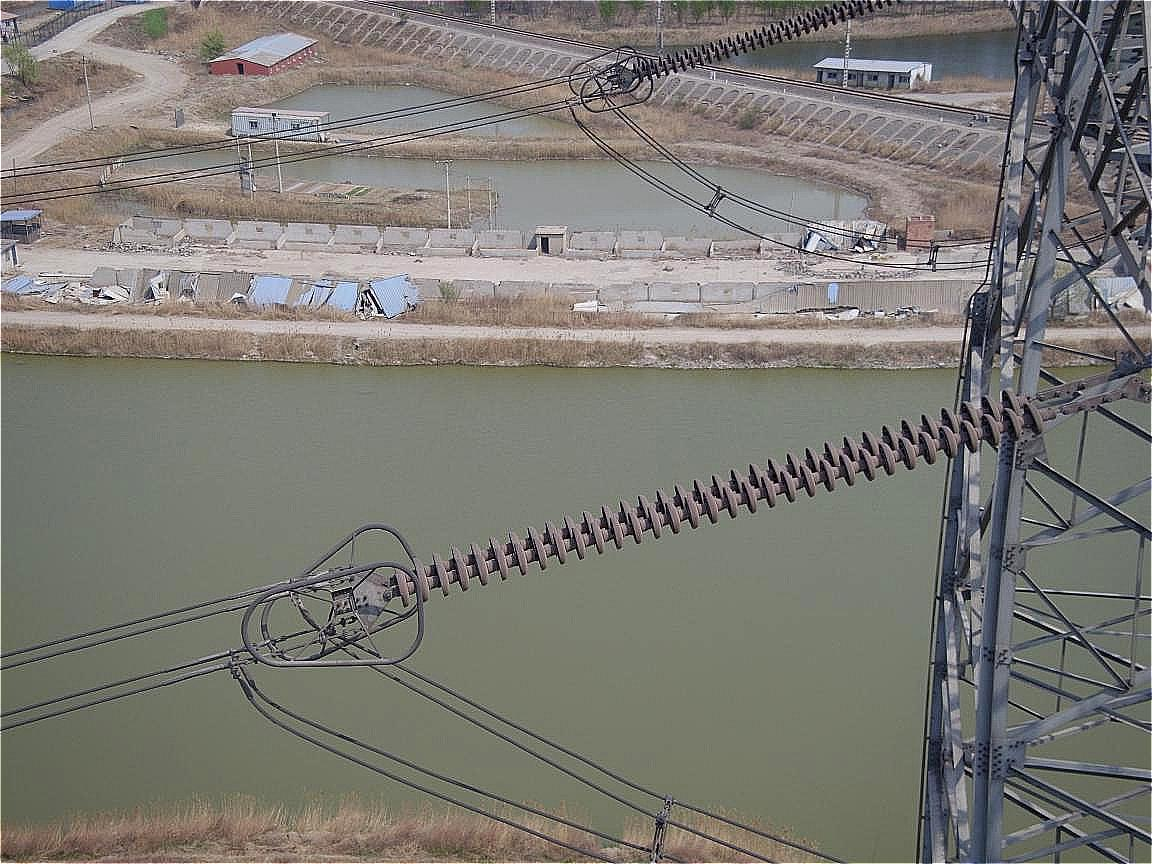insultor1: (394, 387, 1026, 605), (641, 2, 877, 83)
